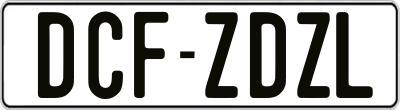C: (88, 10, 123, 98)
D: (35, 10, 76, 101), (248, 12, 288, 100)
F: (134, 10, 173, 98)
L: (335, 10, 374, 99)
Z: (205, 9, 244, 96), (297, 10, 330, 99)
